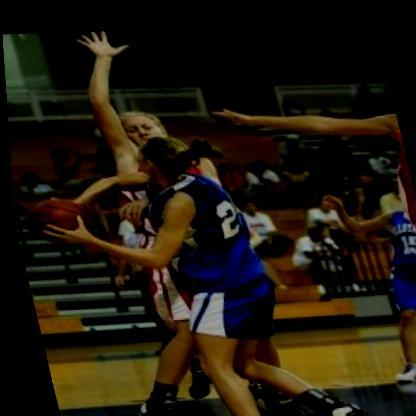basketball: (18, 180, 96, 250)
